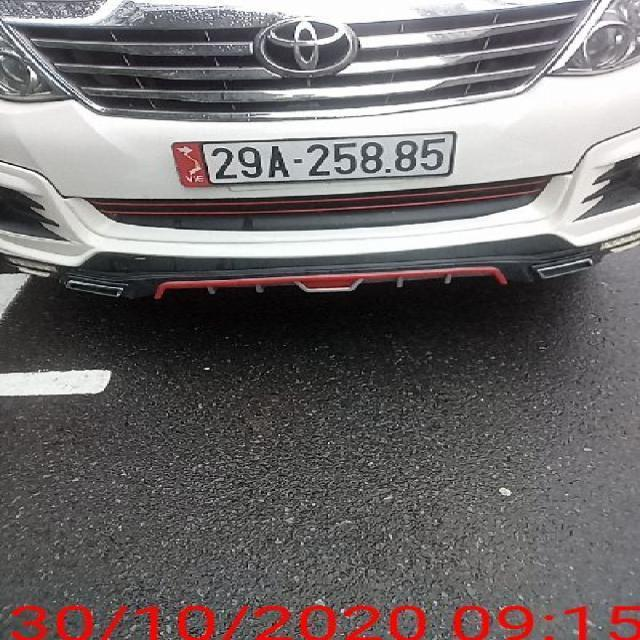bien_so_oto: (192, 126, 462, 188)
